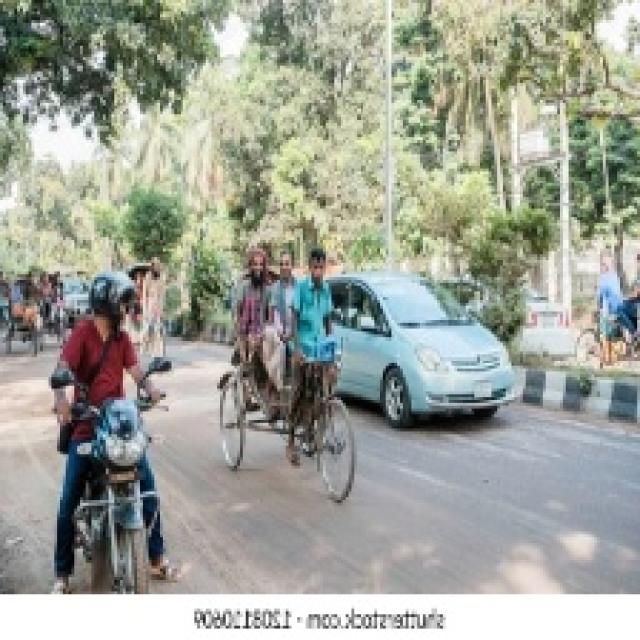bike: (65, 372, 179, 590)
car: (333, 258, 519, 423)
rickshaw: (212, 261, 361, 496), (6, 282, 46, 354)
